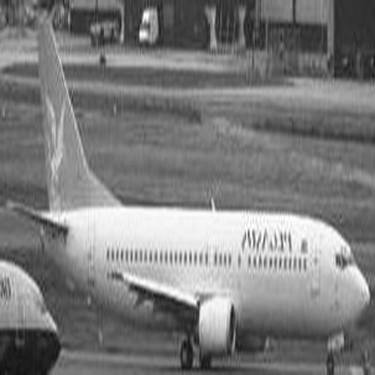airplane: (6, 4, 371, 374), (1, 247, 67, 374)
